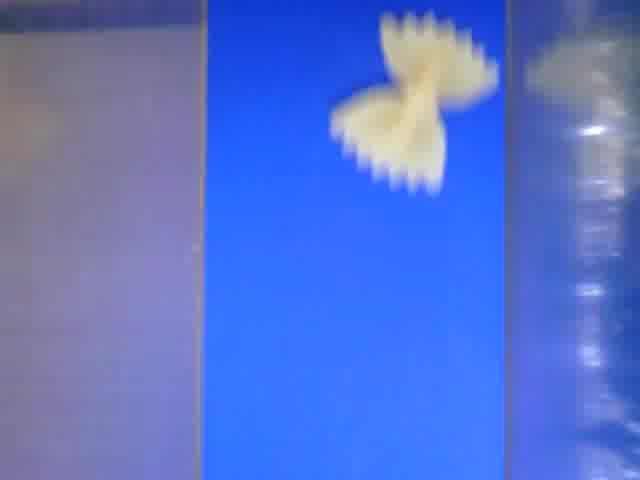farfalle: (325, 14, 497, 196)
